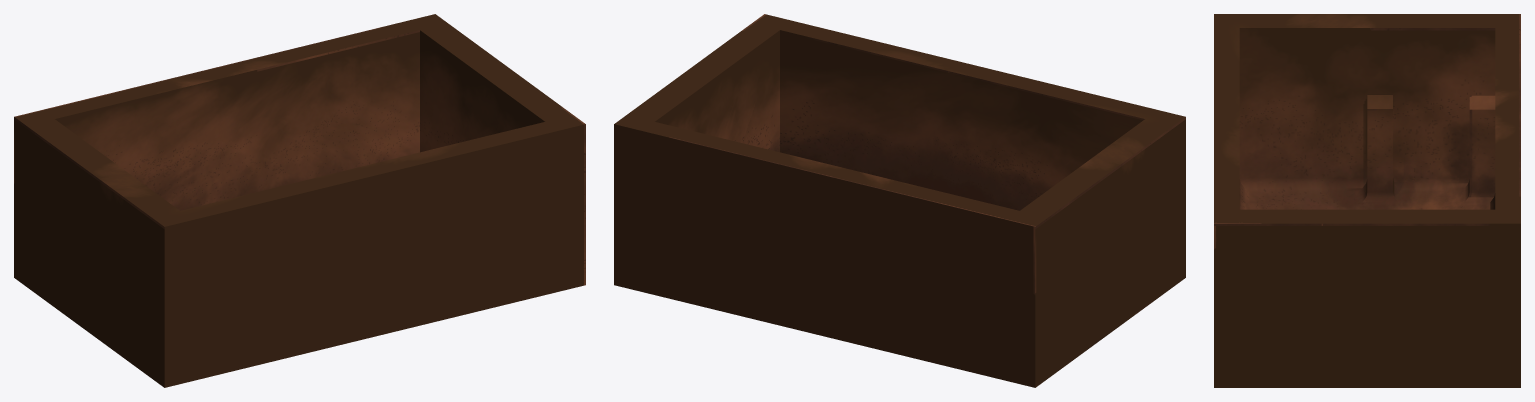
File: level1.fbx
3 views of the same model, side by side, from view 1: azimuth 30°, elevation 25°; view 2: azimuth 150°, elevation 25°; view 3: azimuth 270°, elevation 25° (orthographic). The views are drawn at different scales.
Parts seen in each view (by area): view 1: Cube.009; view 2: Cube.009; view 3: Cube.009.
Part boxes in pixels (x1=…): Cube.009: x1=14, y1=14, x2=585, y2=387; Cube.009: x1=614, y1=14, x2=1185, y2=387; Cube.009: x1=1214, y1=14, x2=1520, y2=387.
Bounding box in the file's own units: 3957 × 1446 × 2448.
Materials: 1 (1 with a texture image).
